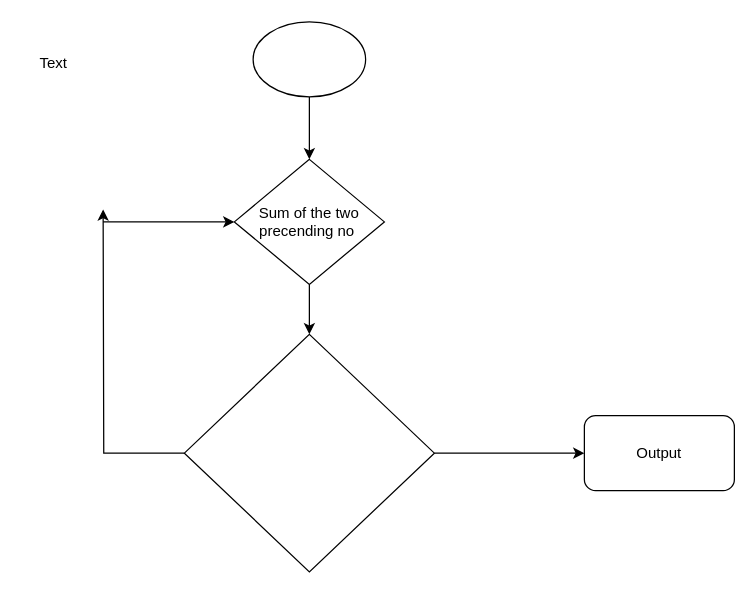
This 756x594 diagram has some shape labels left out. Each missing label, with the centre of its shape:
Does the present no. is equal to the desire no.: [308,452]
Start: [309,59]
